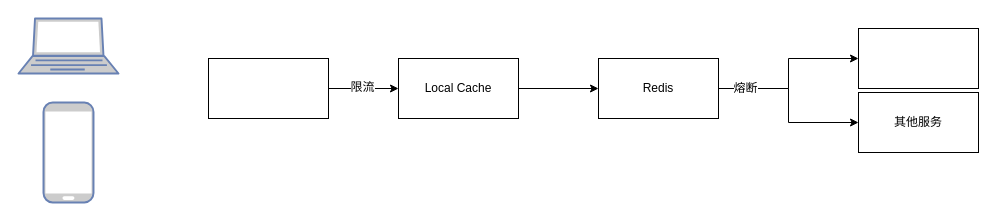
Image size: 996x220. Some labels were removed from this diagram. The centre of each missing label's shape, as x and y in pixels:
Db: (x=918, y=58)
Nginx: (x=268, y=88)
